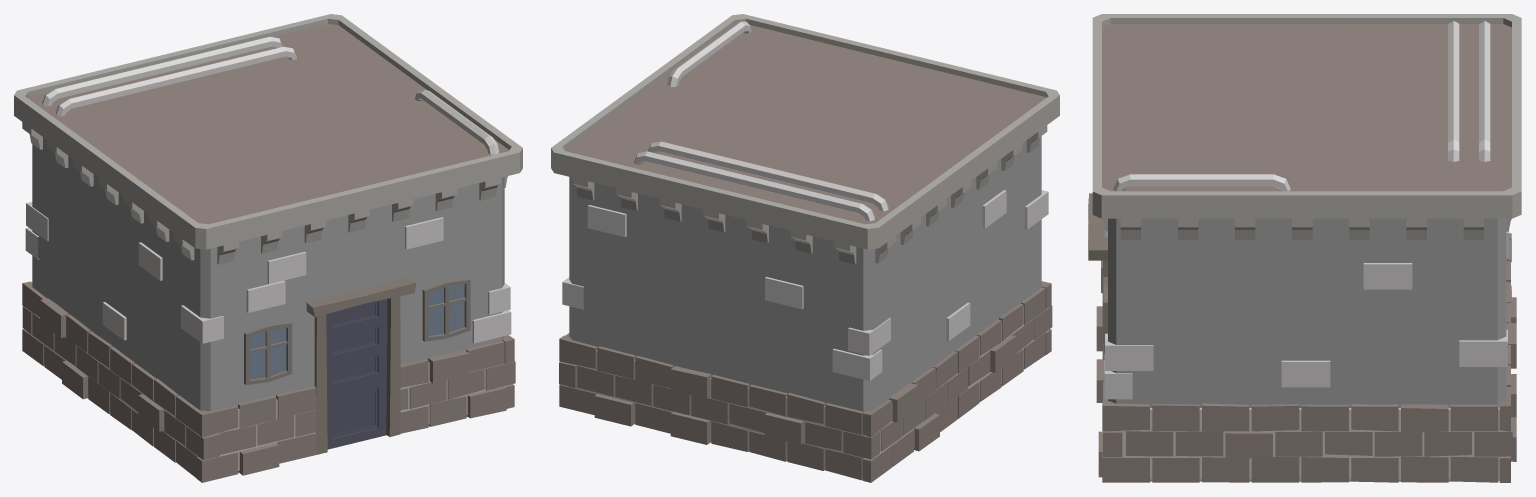
File: 1Story.glb
3 views of the same model, side by side, from view 1: azimuth 30°, elevation 25°; view 2: azimuth 150°, elevation 25°; view 3: azimuth 270°, elevation 25° (orthographic). The views are drawn at different scales.
Parts seen in each view (by area): view 1: 1Story; view 2: 1Story; view 3: 1Story.
Boxes of the visible parts, bbox=[...] form: 1Story: bbox=[14, 14, 522, 482]; 1Story: bbox=[551, 14, 1059, 482]; 1Story: bbox=[1088, 14, 1521, 482].
Size of the model in its own units: 5.17 by 4.01 by 5.22.
1 material, 1 textured.
